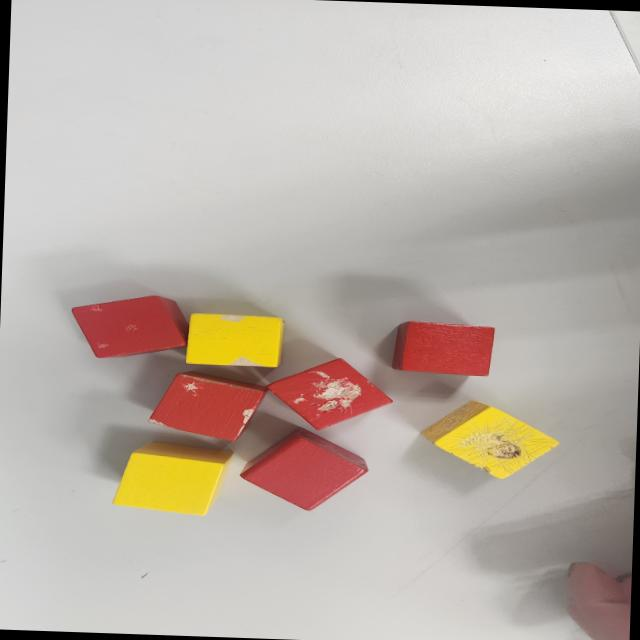broken: (418, 398, 560, 480), (265, 354, 394, 432), (148, 369, 270, 446), (68, 291, 188, 362), (184, 313, 284, 368)
red: (238, 424, 371, 512), (390, 320, 496, 377)
yellow: (111, 440, 235, 517)
